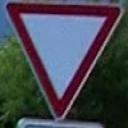preferencia: (4, 0, 128, 121)
